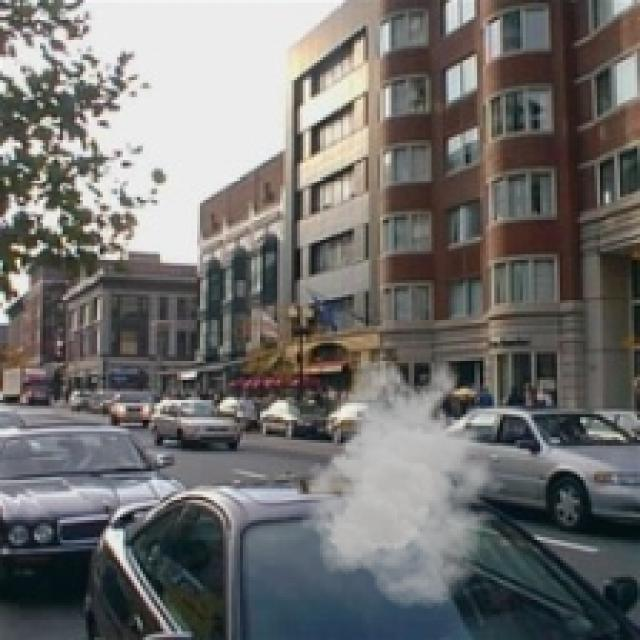smoke: (300, 354, 517, 609)
